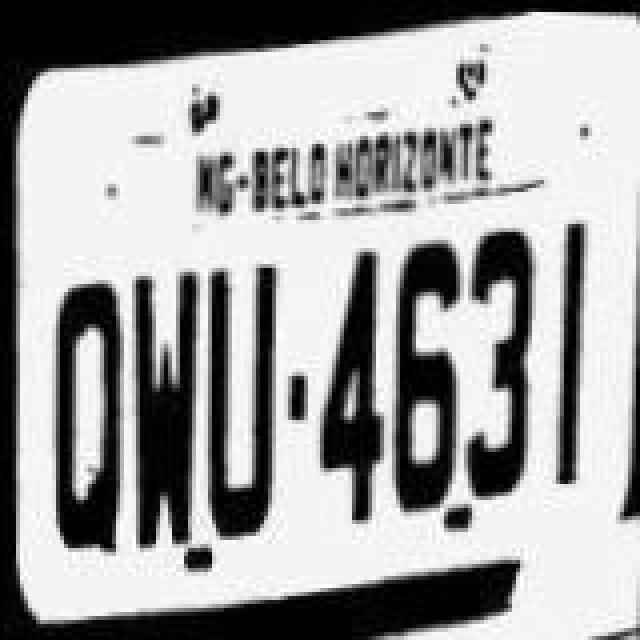1: (536, 212, 596, 480)
3: (458, 234, 538, 498)
4: (320, 240, 396, 520)
6: (384, 240, 468, 508)
Q: (42, 288, 134, 556)
U: (198, 266, 282, 542)
W: (126, 272, 202, 544)
